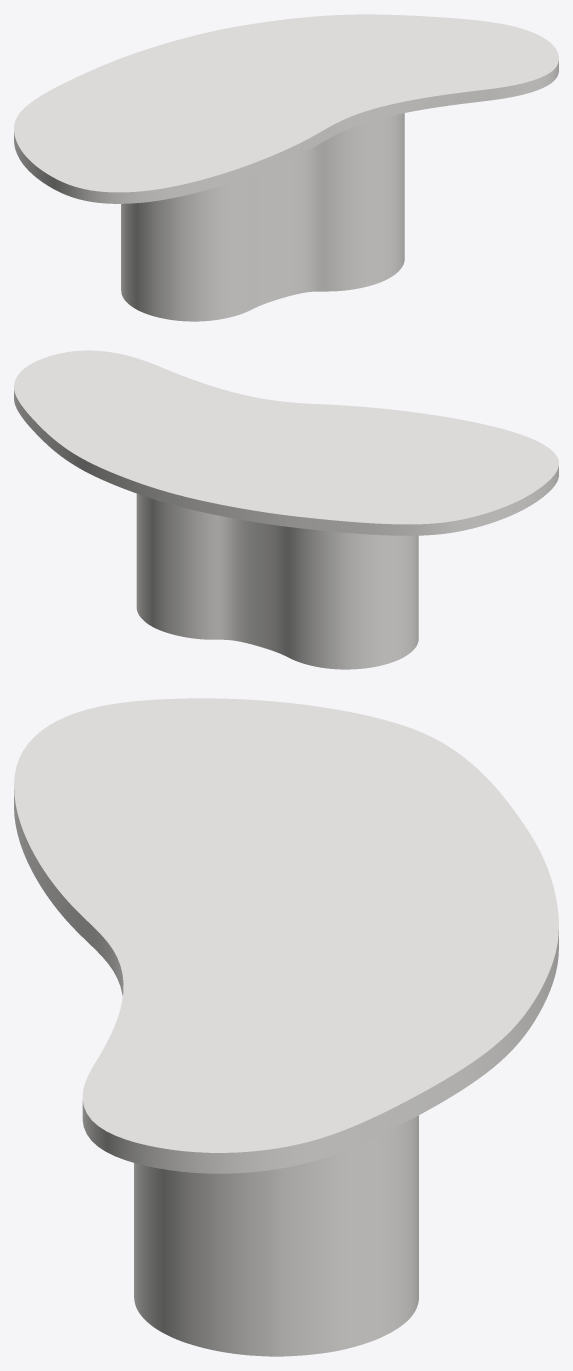
The model's file is purewhite_leaf1_standard_riverwave.glb.
3 renders of one model, top to bottom at view 1: azimuth 30°, elevation 25°; view 2: azimuth 150°, elevation 25°; view 3: azimuth 270°, elevation 25°, orthographic. The views are drawn at different scales.
Visible parts, largest first — view 1: standard_leaf1, riverwave; view 2: standard_leaf1, riverwave; view 3: standard_leaf1, riverwave.
Part boxes in pixels (box(x1,y1,x2,y2)): standard_leaf1: box(14, 14, 558, 203); riverwave: box(121, 113, 404, 321); standard_leaf1: box(14, 350, 558, 535); riverwave: box(136, 493, 418, 669); standard_leaf1: box(14, 698, 558, 1173); riverwave: box(134, 1115, 418, 1356).
Size of the model in its own units: 7.5 by 2.51 by 3.8.
Materials: 1 (1 with a texture image).
